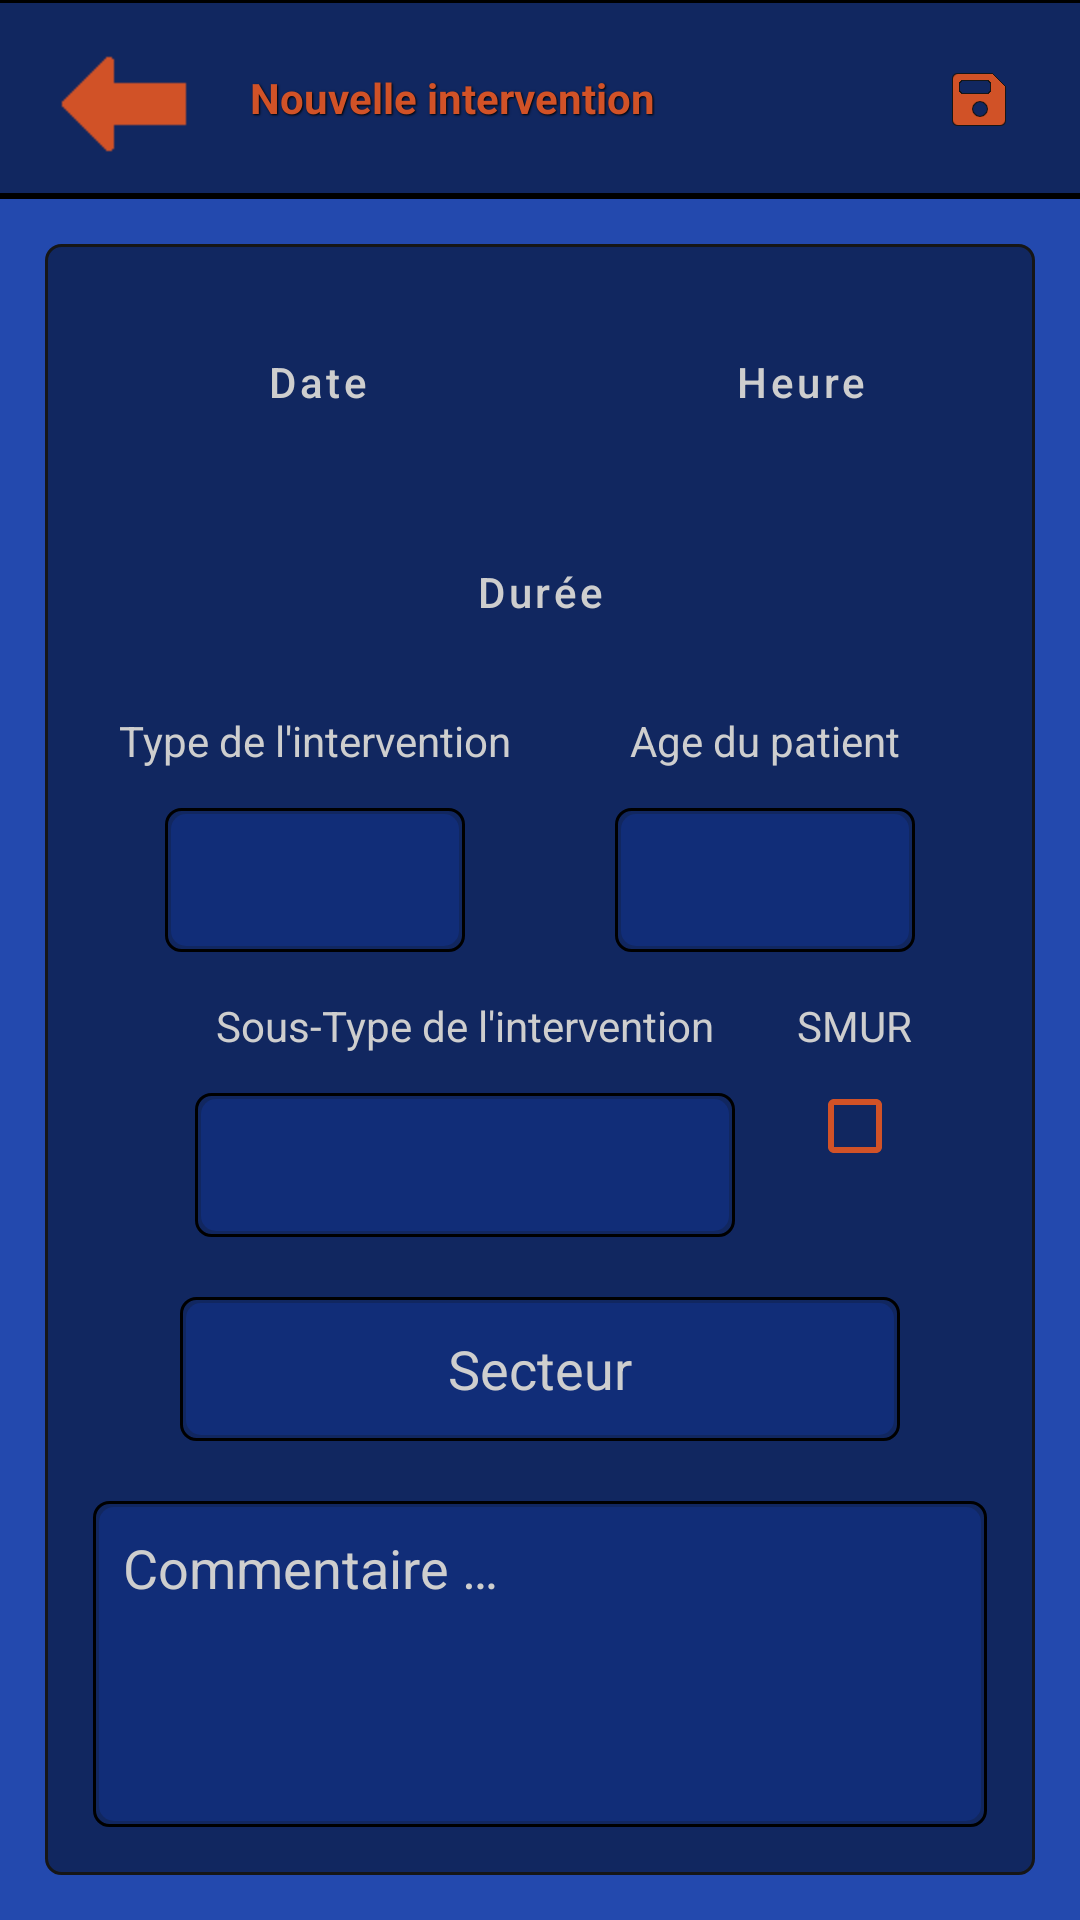

Icon click points for this 1080px x 1920px phone screenshot, format (x,y):
Flèche Retour: (124,104)
Sauvegarder: (979,99)
